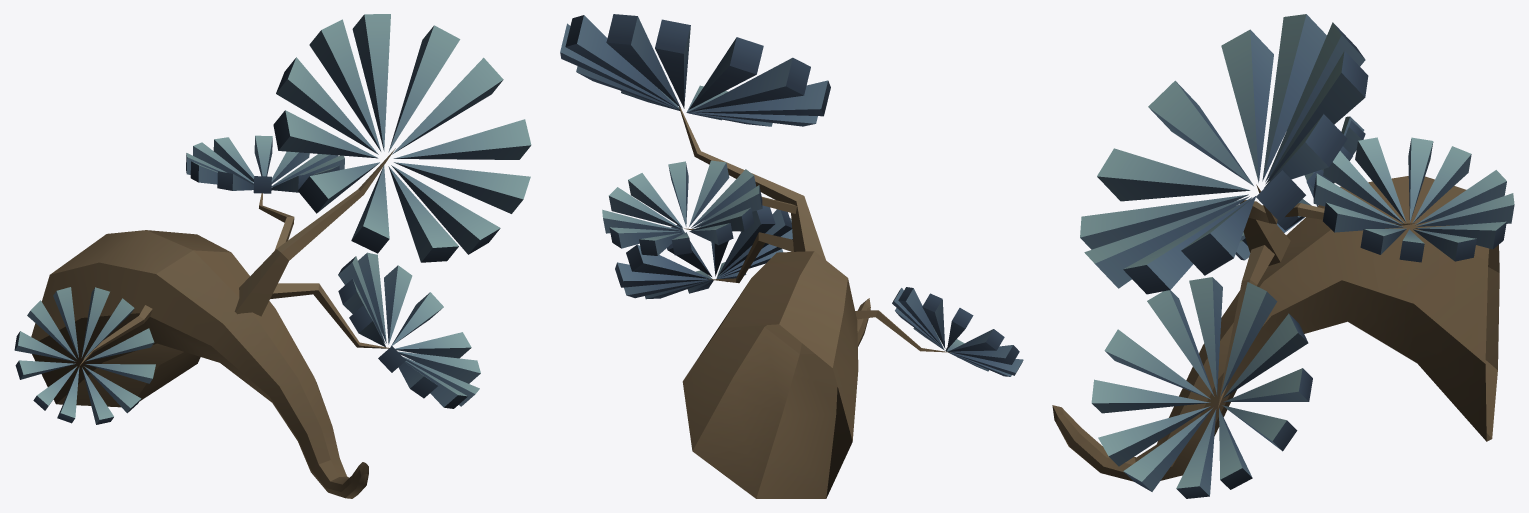
Rendered from branch_winter_2.glb.
3 views of the same model, side by side, from view 1: azimuth 30°, elevation 25°; view 2: azimuth 150°, elevation 25°; view 3: azimuth 270°, elevation 25° (orthographic). The views are drawn at different scales.
Parts seen in each view (by area): view 1: branch_winter_2; view 2: branch_winter_2; view 3: branch_winter_2.
Part boxes in pixels (x1,y1,x2,y2): branch_winter_2: (14, 14, 531, 498); branch_winter_2: (560, 14, 1023, 498); branch_winter_2: (1052, 14, 1514, 498).
Bounding box in the file's own units: 2.63 × 2.13 × 1.78.
1 material, 1 textured.
